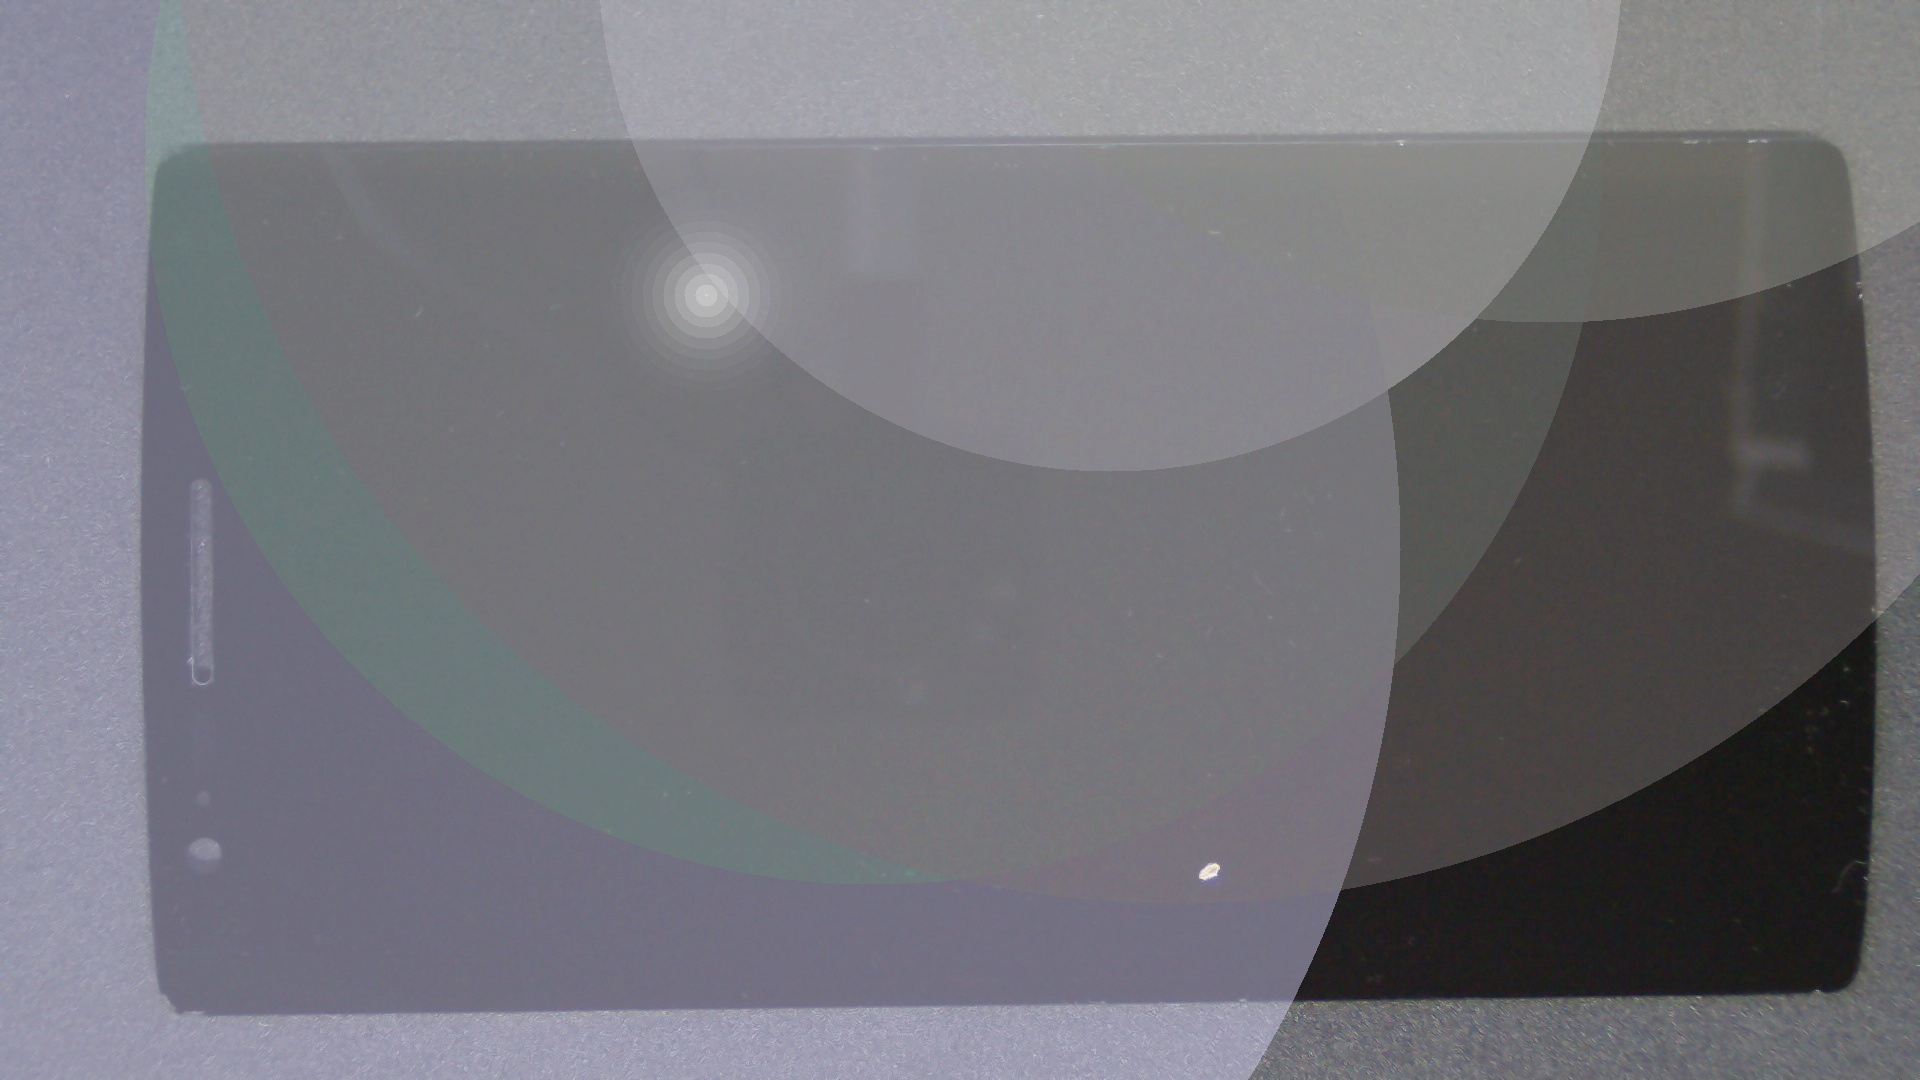oil: (611, 430, 1829, 1080)
